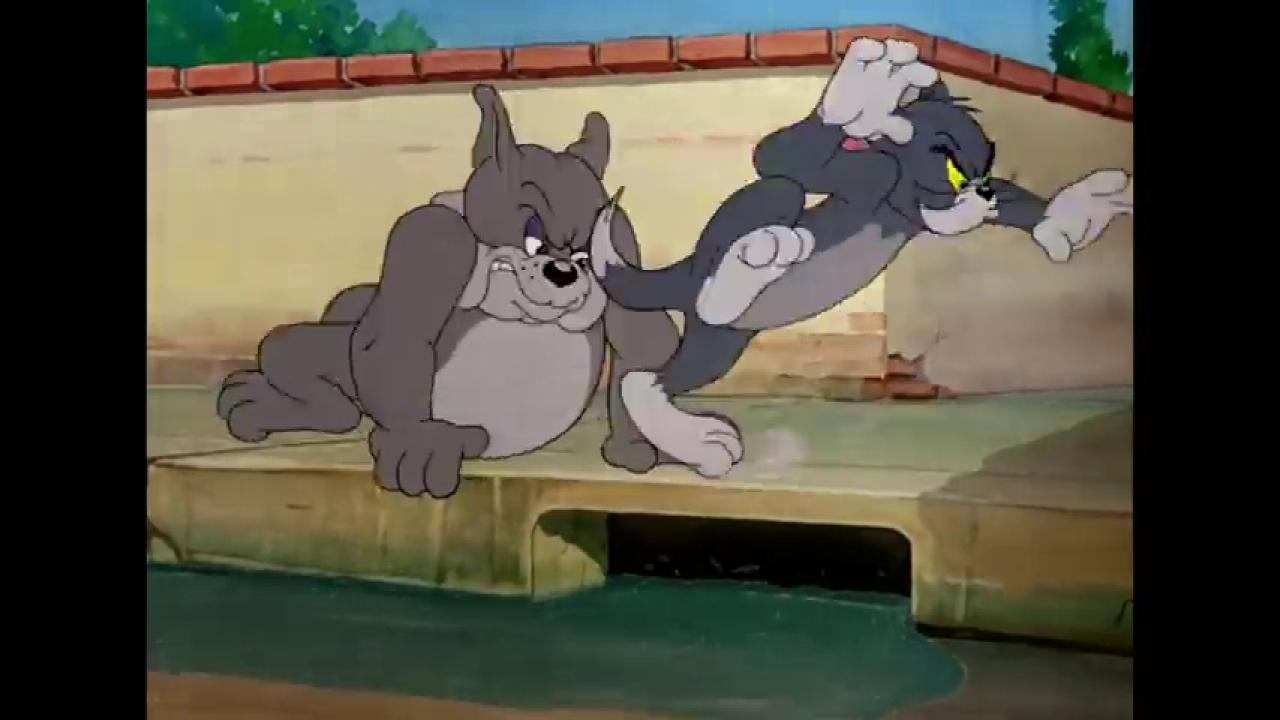Tom: (588, 36, 1134, 480)
